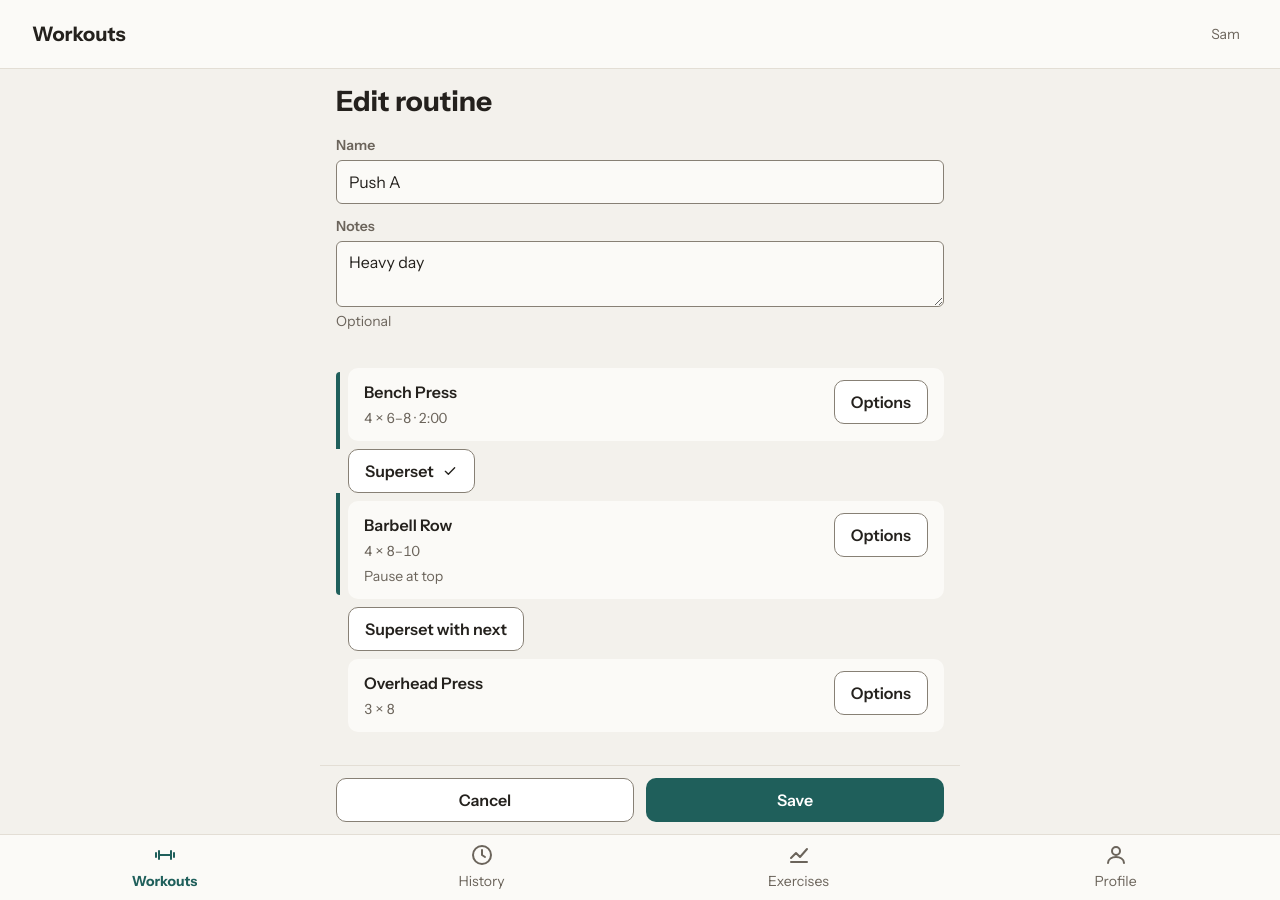
Test case: 10.0 AC8 — duplicate-name warning in the editor › Review Focus 4 — renaming to a case variant of itself is fine
Replace the text in the field labelled "Name" with "push a": (640, 182) [336,160,944,204]
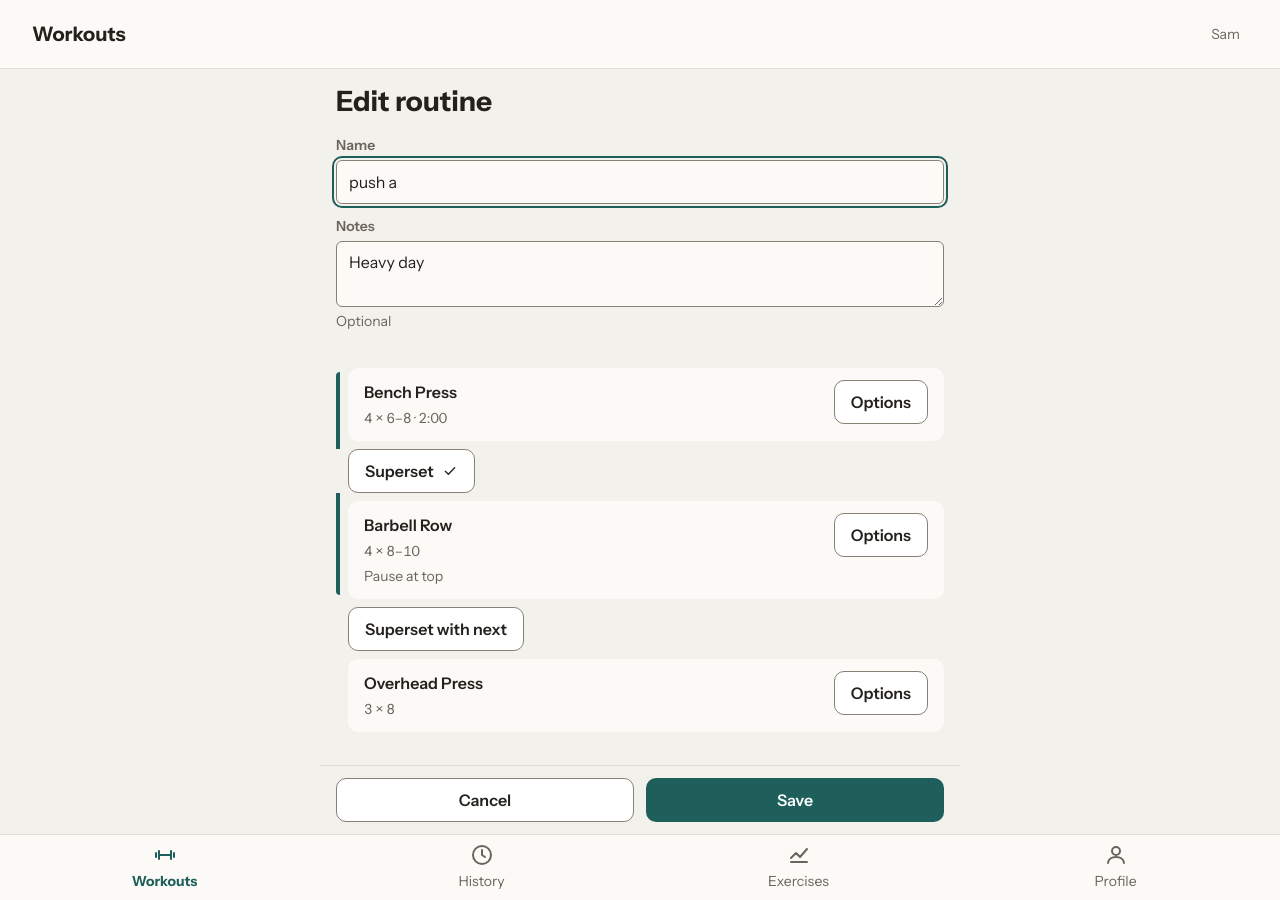
Click the button "Save": (795, 800) [646,778,944,822]
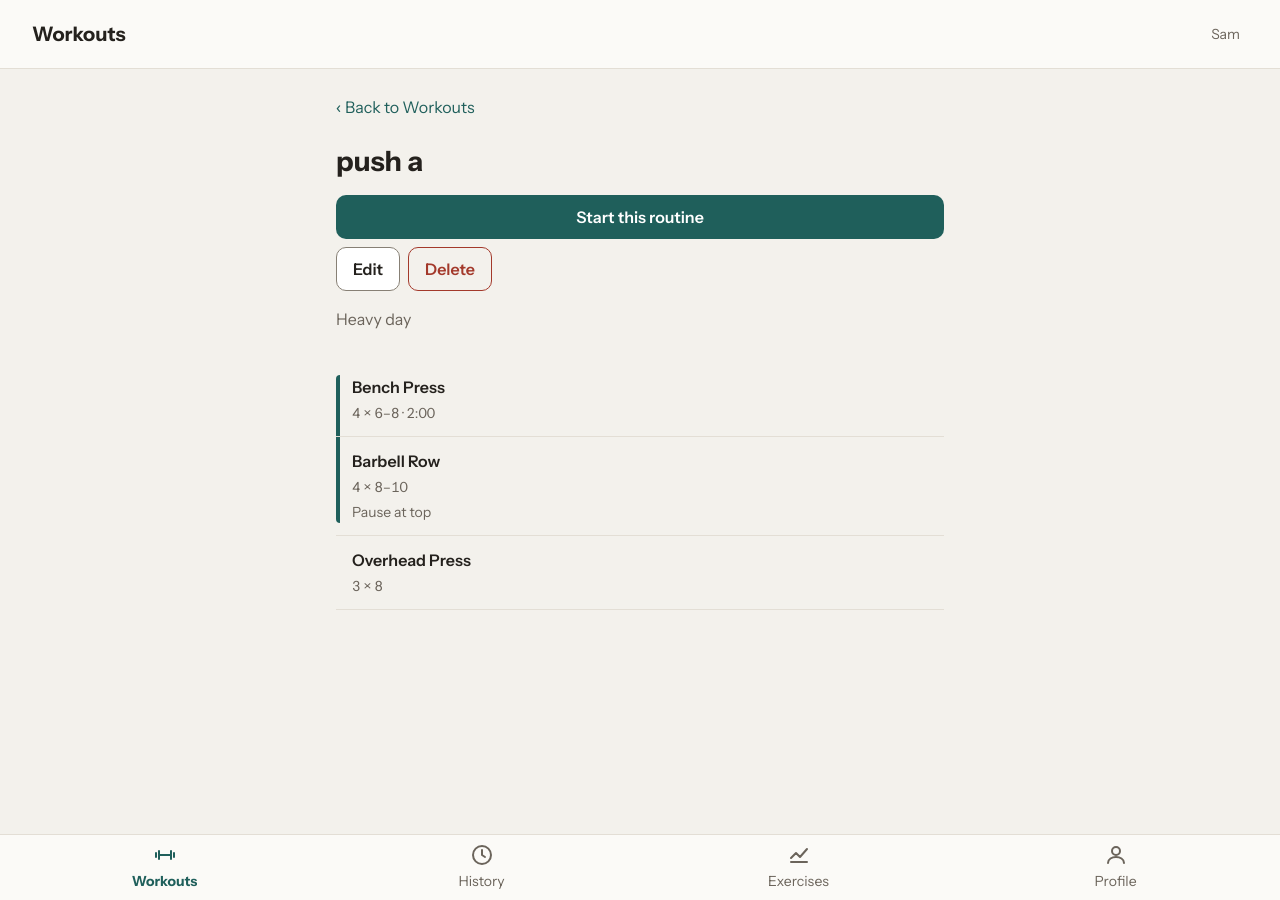
Expected: the heading "push a" is shown, [336,144,423,178]
